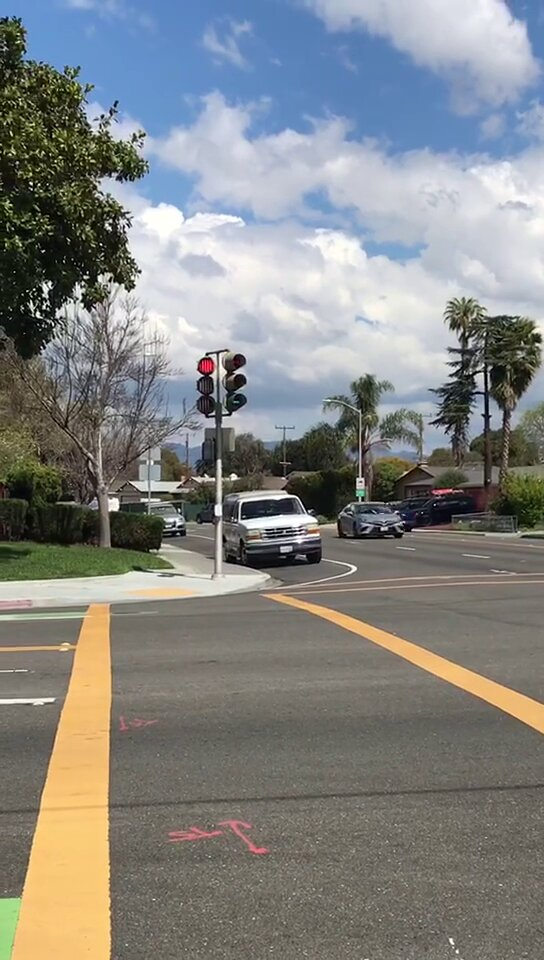red_light: (195, 356, 217, 415)
